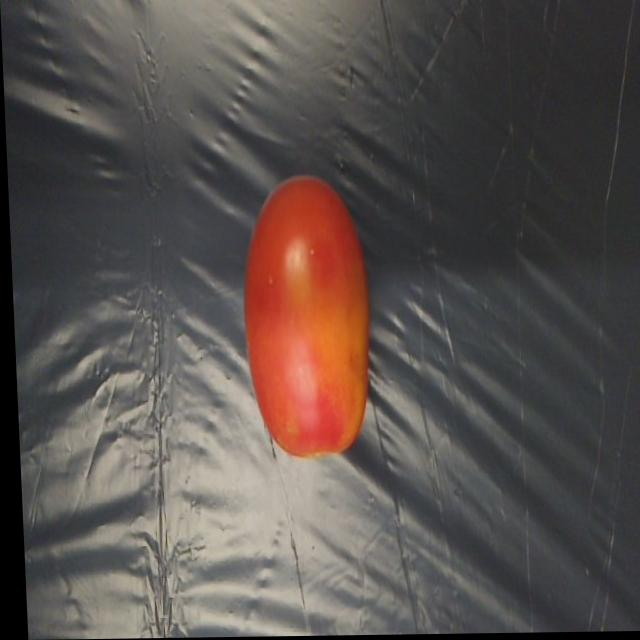sari: (236, 161, 370, 487)
